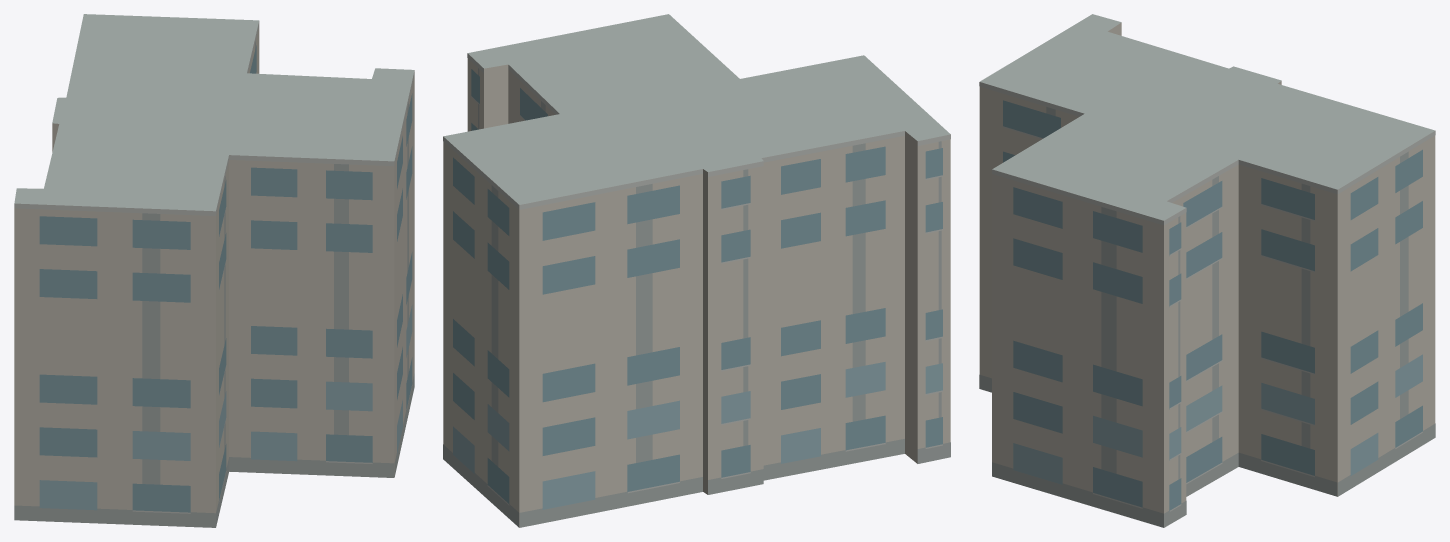
Rendered from survey-upis-32557282.glb.
3 views of the same model, side by side, from view 1: azimuth 30°, elevation 25°; view 2: azimuth 150°, elevation 25°; view 3: azimuth 270°, elevation 25° (orthographic). The views are drawn at different scales.
Parts seen in each view (by area): view 1: survey-upis-32557282.tmp; view 2: survey-upis-32557282.tmp; view 3: survey-upis-32557282.tmp.
Part boxes in pixels (x1,y1,x2,y2): survey-upis-32557282.tmp: (14,14,414,527); survey-upis-32557282.tmp: (443,14,950,527); survey-upis-32557282.tmp: (979,14,1435,527).
Bounding box in the file's own units: 23.12 × 16 × 21.54.
